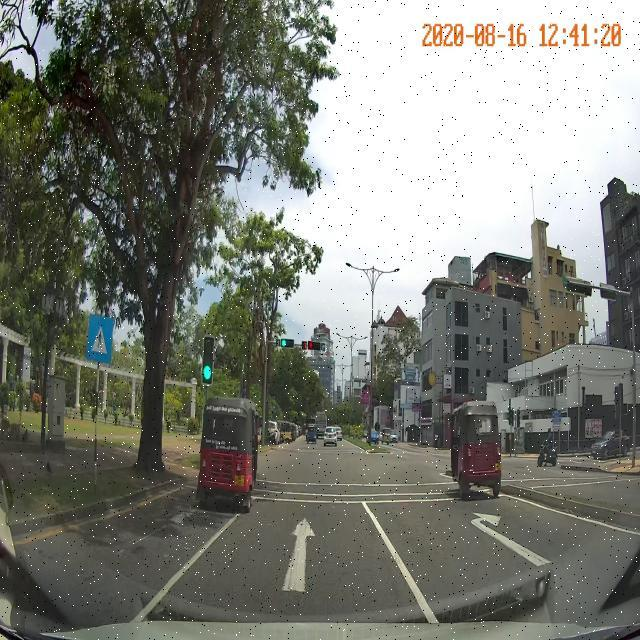forward: (168, 513, 426, 601)
